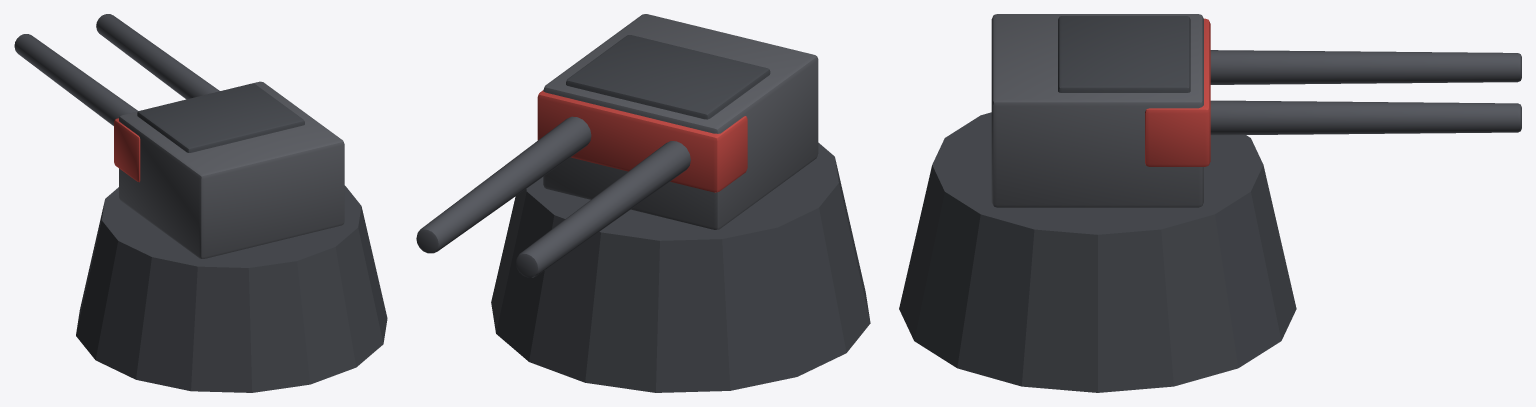
Rendered from turret.glb.
3 renders of one model, left to right at view 1: azimuth 30°, elevation 25°; view 2: azimuth 150°, elevation 25°; view 3: azimuth 270°, elevation 25°, orthographic. The views are drawn at different scales.
Visible parts, largest first — view 1: TurretBase, TurretYoke, TurretBarrels; view 2: TurretBase, TurretYoke, TurretBarrels; view 3: TurretBase, TurretYoke, TurretBarrels.
Part boxes in pixels (x1,y1,x2,y2): TurretBase: (76,185,387,392); TurretYoke: (114,81,344,258); TurretBarrels: (14,14,304,152); TurretBase: (491,142,870,392); TurretYoke: (537,14,818,229); TurretBarrels: (416,35,770,277); TurretBase: (899,112,1296,392); TurretYoke: (991,14,1210,207); TurretBarrels: (1058,16,1521,135).
Bounding box in the file's own units: 3 × 2.15 × 4.7.
